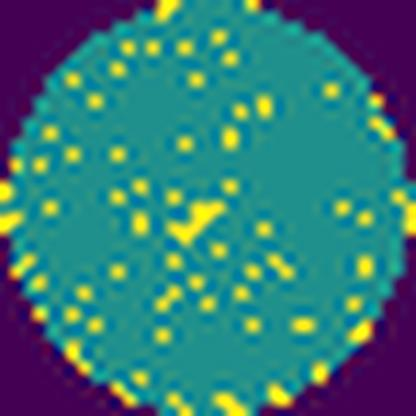Center: (162, 194, 231, 246)
